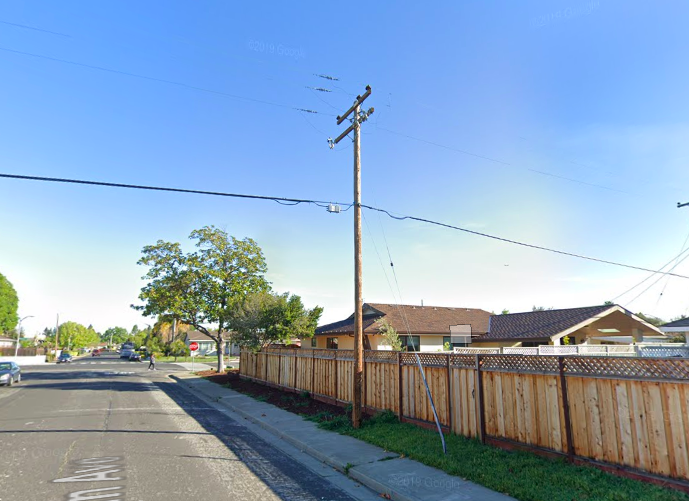tree: (129, 223, 275, 374)
utility_pole: (323, 76, 383, 167)
